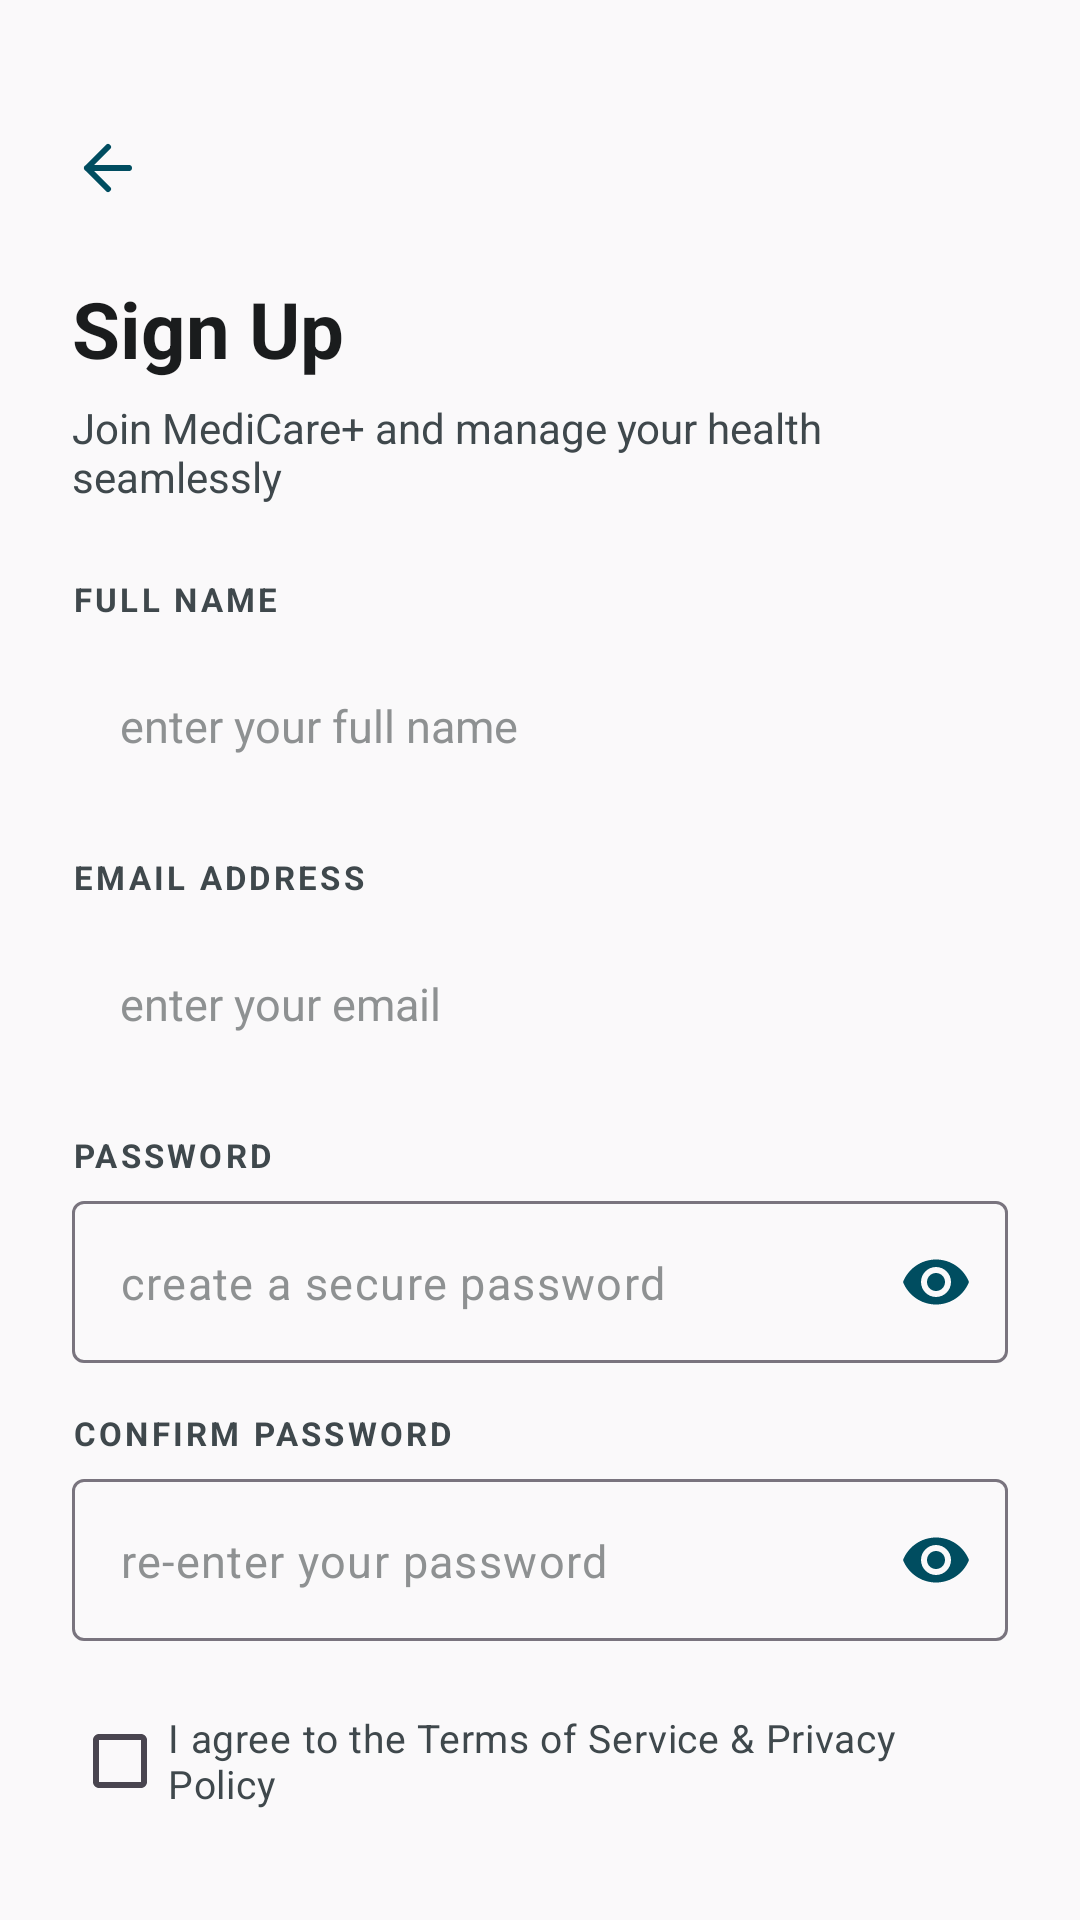

Icon click points for this 1080w x 1920h phone screenshot, format (x,y):
back: (108,168)
